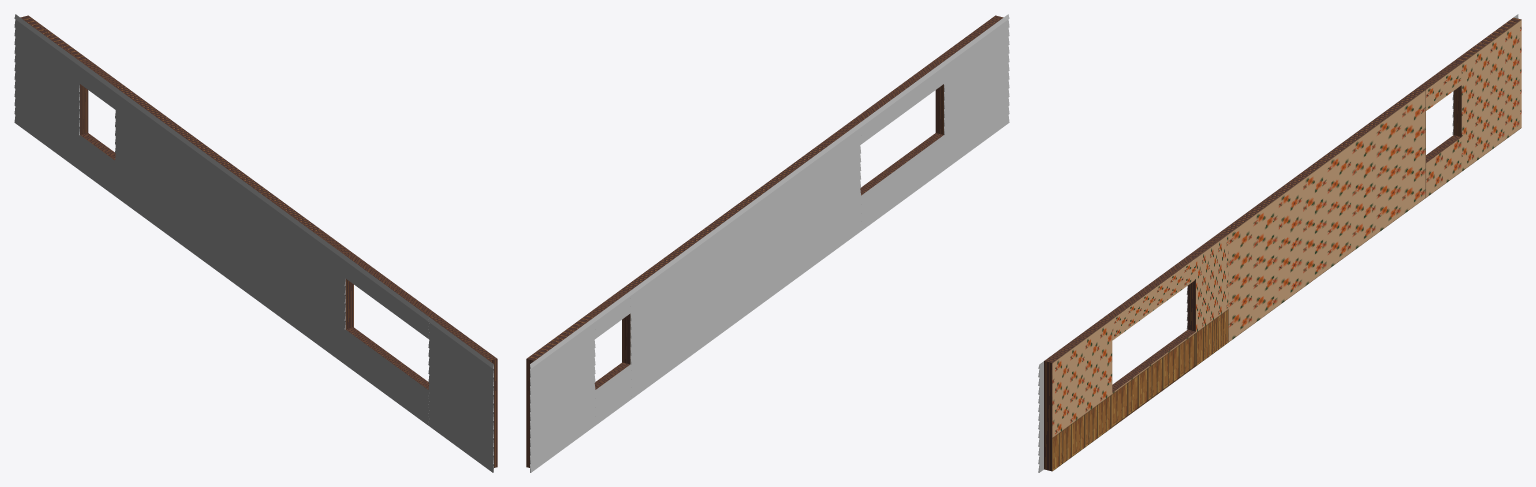
File: Paredes_Externas_Izquierda.obj
3 renders of one model, left to right at view 1: azimuth 30°, elevation 25°; view 2: azimuth 150°, elevation 25°; view 3: azimuth 330°, elevation 25°, orthographic.
Visible parts, largest first — view 1: Paredes_Externas_Izquierda; view 2: Paredes_Externas_Izquierda; view 3: Paredes_Externas_Izquierda.
Boxes of the visible parts, box(x1,y1,x2,y2) form: Paredes_Externas_Izquierda: box(14, 14, 497, 472); Paredes_Externas_Izquierda: box(526, 14, 1009, 472); Paredes_Externas_Izquierda: box(1038, 14, 1521, 472).
Size of the model in its own units: 0.1412 by 1.56 by 12.5.
Materials: 2 (1 with a texture image).
